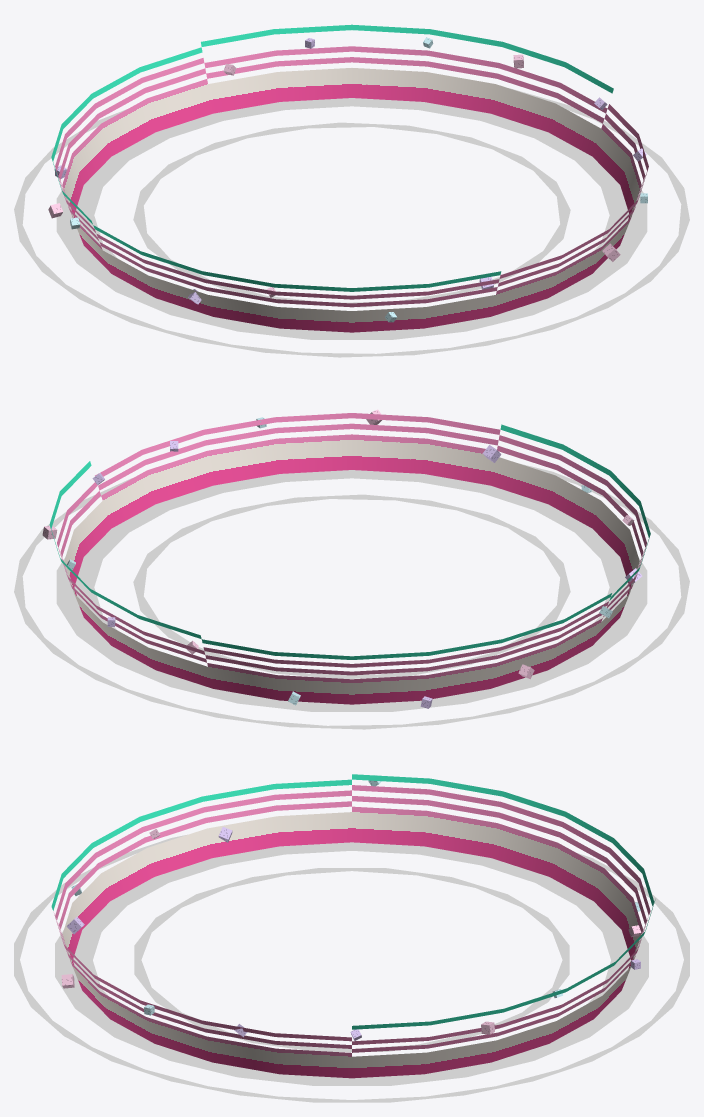
File: Shockwave Ring.fbx
The picture shows the model from 3 angles, top to bottom: view 1: azimuth 30°, elevation 25°; view 2: azimuth 150°, elevation 25°; view 3: azimuth 270°, elevation 25°; orthographic projection.
Visible parts, largest first — view 1: Shockwave Ring band, Shockwave Ring ring, Shockwave Ring ring outer, Shockwave Ring ring inner; view 2: Shockwave Ring band, Shockwave Ring ring, Shockwave Ring ring outer, Shockwave Ring ring inner; view 3: Shockwave Ring band, Shockwave Ring ring, Shockwave Ring ring outer, Shockwave Ring ring inner.
Boxes of the visible parts, bbox=[...] form: Shockwave Ring band: bbox=[51, 24, 648, 332]; Shockwave Ring ring: bbox=[56, 98, 647, 339]; Shockwave Ring ring outer: bbox=[14, 88, 689, 357]; Shockwave Ring ring inner: bbox=[133, 122, 570, 307]; Shockwave Ring band: bbox=[49, 413, 650, 704]; Shockwave Ring ring: bbox=[56, 470, 647, 711]; Shockwave Ring ring outer: bbox=[14, 463, 689, 729]; Shockwave Ring ring inner: bbox=[133, 494, 570, 678]; Shockwave Ring band: bbox=[51, 774, 655, 1078]; Shockwave Ring ring: bbox=[55, 842, 648, 1085]; Shockwave Ring ring outer: bbox=[14, 834, 689, 1102]; Shockwave Ring ring inner: bbox=[134, 868, 569, 1051].
Bounding box in the file's own units: 4.17 × 0.5 × 4.17.
Materials: 7 (4 with a texture image).
